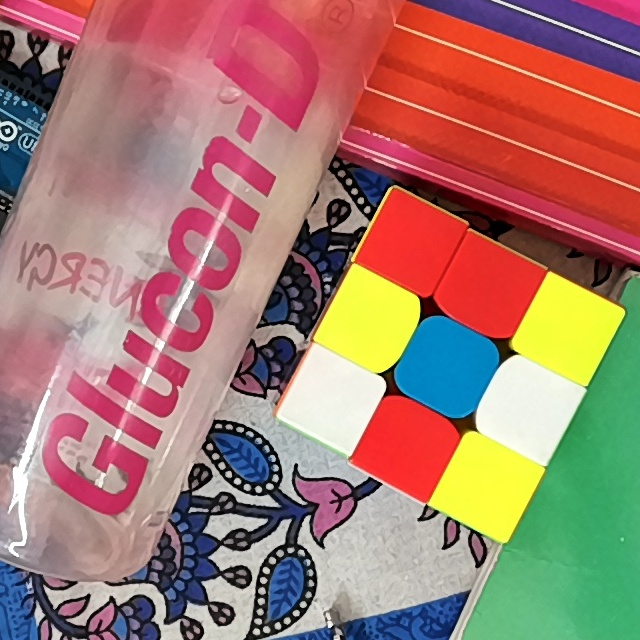tile: (457, 256, 521, 322), (377, 412, 438, 477), (499, 376, 560, 439), (458, 454, 518, 516), (380, 214, 442, 273), (344, 291, 402, 352), (537, 302, 599, 359), (418, 338, 477, 395), (305, 367, 365, 423)
